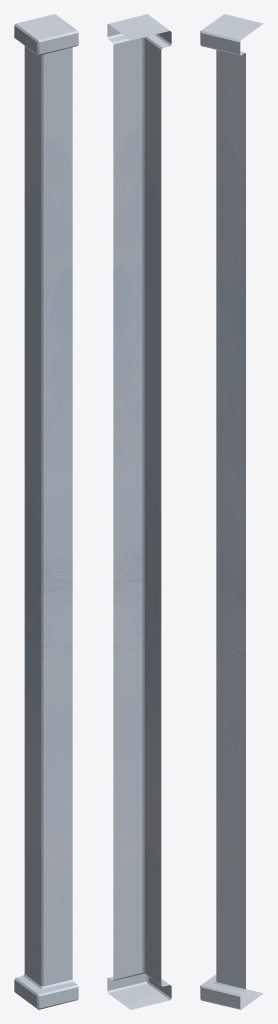
File: Dividing strip corner.fbx
The picture shows the model from 3 angles, left to right: view 1: azimuth 30°, elevation 25°; view 2: azimuth 210°, elevation 25°; view 3: azimuth 330°, elevation 25°; orthographic projection.
Parts seen in each view (by area): view 1: Dividing strip corner; view 2: Dividing strip corner; view 3: Dividing strip corner.
Part boxes in pixels (left/top/right/bottom): Dividing strip corner: left=14, top=14, right=78, bottom=1009; Dividing strip corner: left=107, top=14, right=171, bottom=1009; Dividing strip corner: left=200, top=14, right=263, bottom=1009.
Size of the model in its own units: 13.23 by 300 by 13.23.
